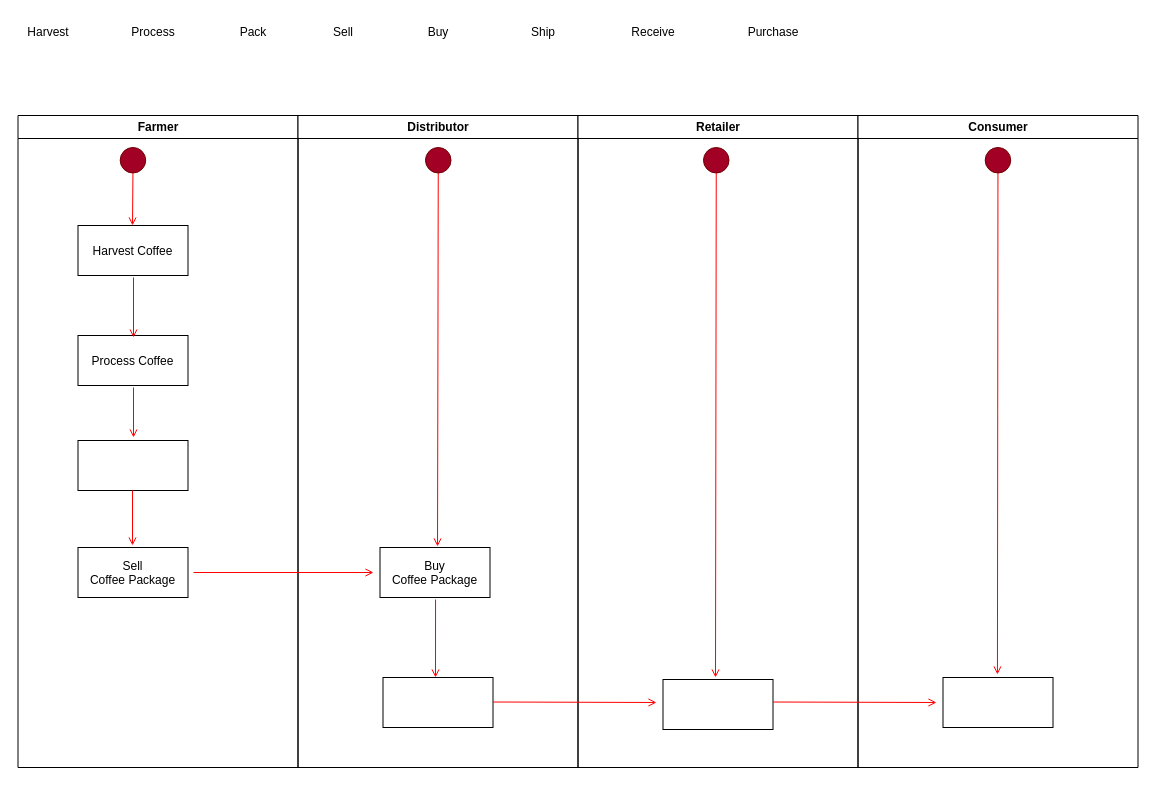
Some shapes in this 1155 by 785 pixel diagram are drawn without their labels. The shapes that lost their labels are listed below. From the top down, each one's centre as x and y in pixels, then its label:
At pixel 132 465: "Pack Coffee".
At pixel 437 702: "Ship Coffee Package".
At pixel 717 704: "Receive Coffee Package".
At pixel 997 702: "Purchase Coffee Package".
